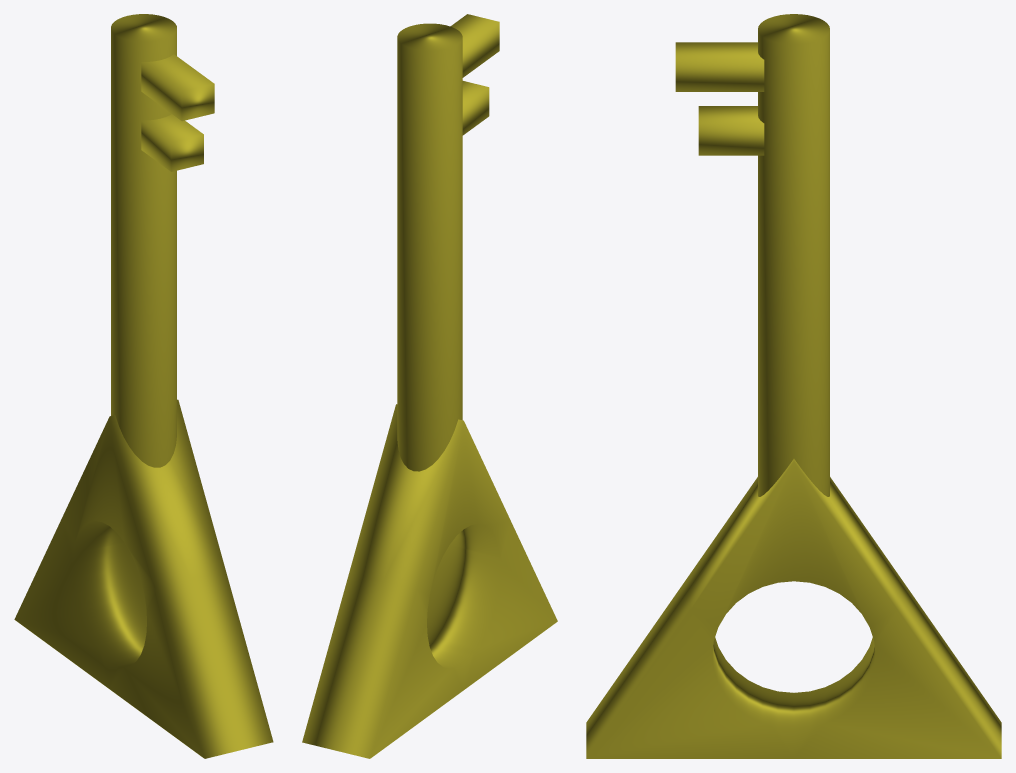
Rendered from triangle key.fbx.
The picture shows the model from 3 angles, left to right: view 1: azimuth 30°, elevation 25°; view 2: azimuth 150°, elevation 25°; view 3: azimuth 270°, elevation 25°; orthographic projection. The views are drawn at different scales.
Visible parts, largest first — view 1: Cylinder; view 2: Cylinder; view 3: Cylinder.
Boxes of the visible parts, x1,y1,x2,y2 form: Cylinder: (14,14,273,758); Cylinder: (302,14,557,758); Cylinder: (586,14,1001,758).
Size of the model in its own units: 24.15 by 218 by 116.
